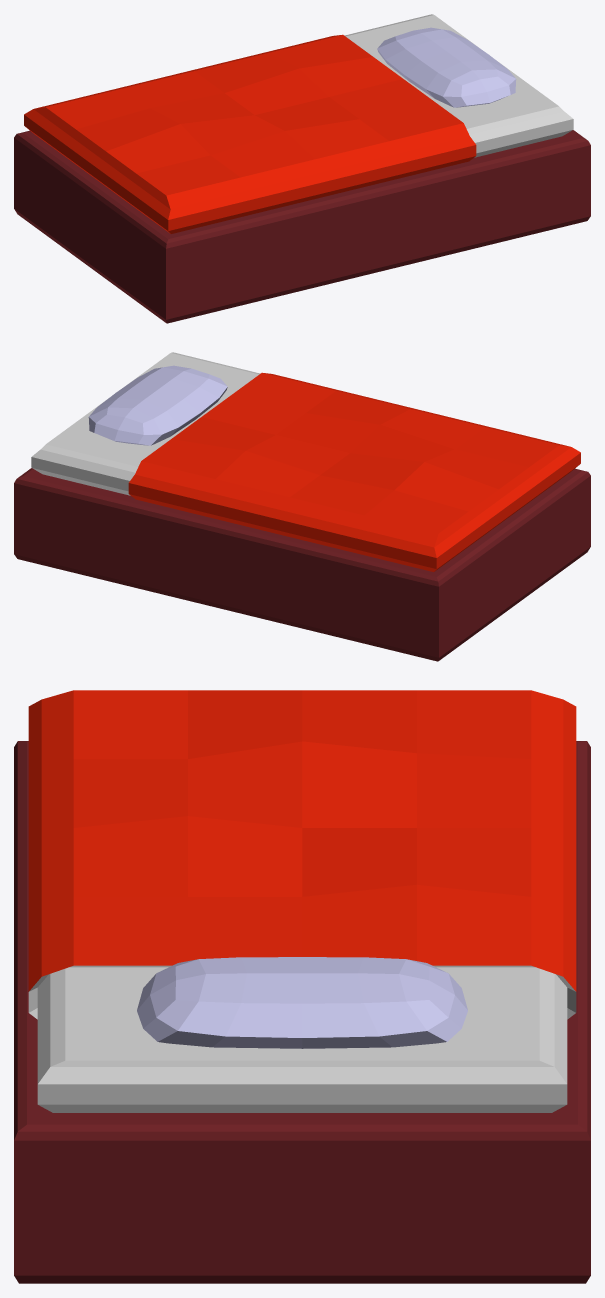
The model's file is MOD_Cama.fbx.
3 renders of one model, top to bottom at view 1: azimuth 30°, elevation 25°; view 2: azimuth 150°, elevation 25°; view 3: azimuth 270°, elevation 25°, orthographic. The views are drawn at different scales.
Visible parts, largest first — view 1: Cama.001, Cama, Almoada; view 2: Cama.001, Cama, Almoada; view 3: Cama.001, Cama, Almoada.
Part boxes in pixels (left/top/right/bottom): Cama.001: left=24, top=14, right=573, bottom=233; Cama: left=14, top=130, right=590, bottom=323; Almoada: left=377, top=27, right=516, bottom=107; Cama.001: left=31, top=352, right=580, bottom=571; Cama: left=14, top=468, right=590, bottom=661; Almoada: left=88, top=365, right=227, bottom=445; Cama.001: left=28, top=690, right=576, bottom=1112; Cama: left=14, top=741, right=590, bottom=1283; Almoada: left=137, top=957, right=467, bottom=1048.
Size of the model in its own units: 1055 by 317 by 654.
